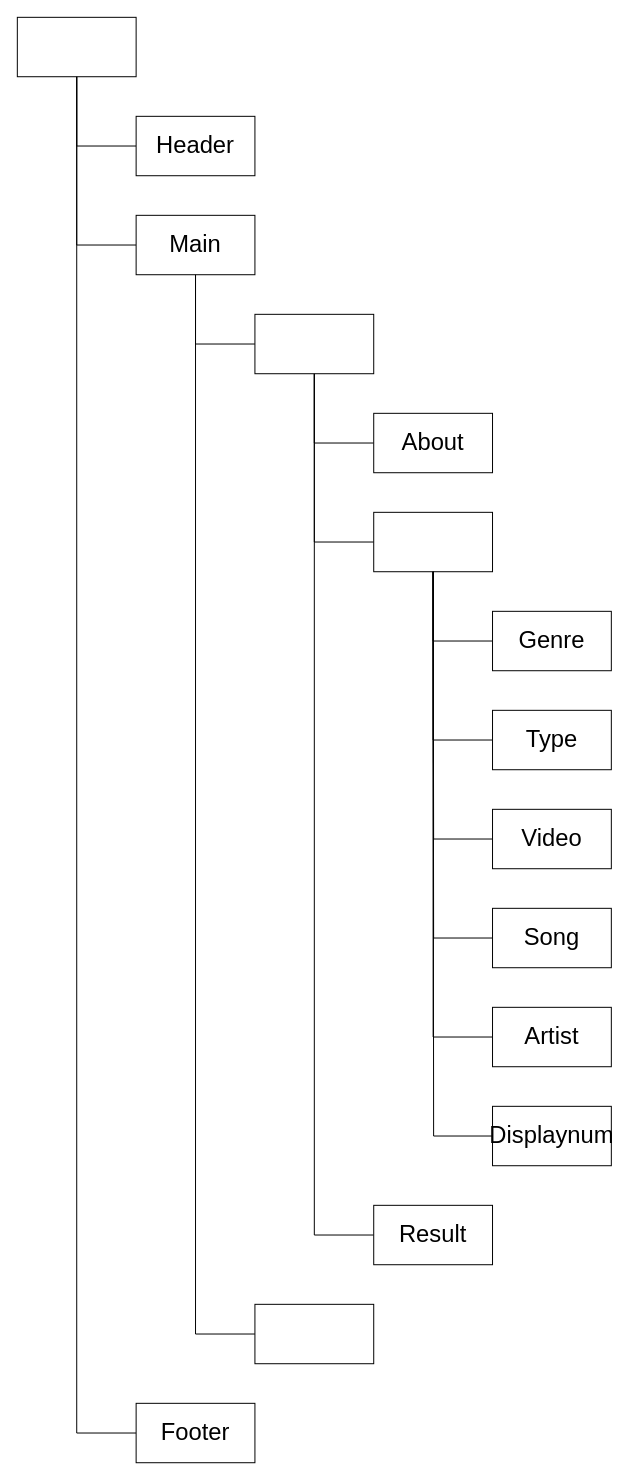
This 631x1480 diagram has some shape labels left out. The shapes that lost their labels are listed below. From the top down, each one's box as (x1, y1, x2, y2) in pixels, then its label:
(16, 16, 136, 77): Root
(254, 313, 374, 374): Top
(373, 511, 493, 572): Select
(254, 1303, 374, 1364): Stats
